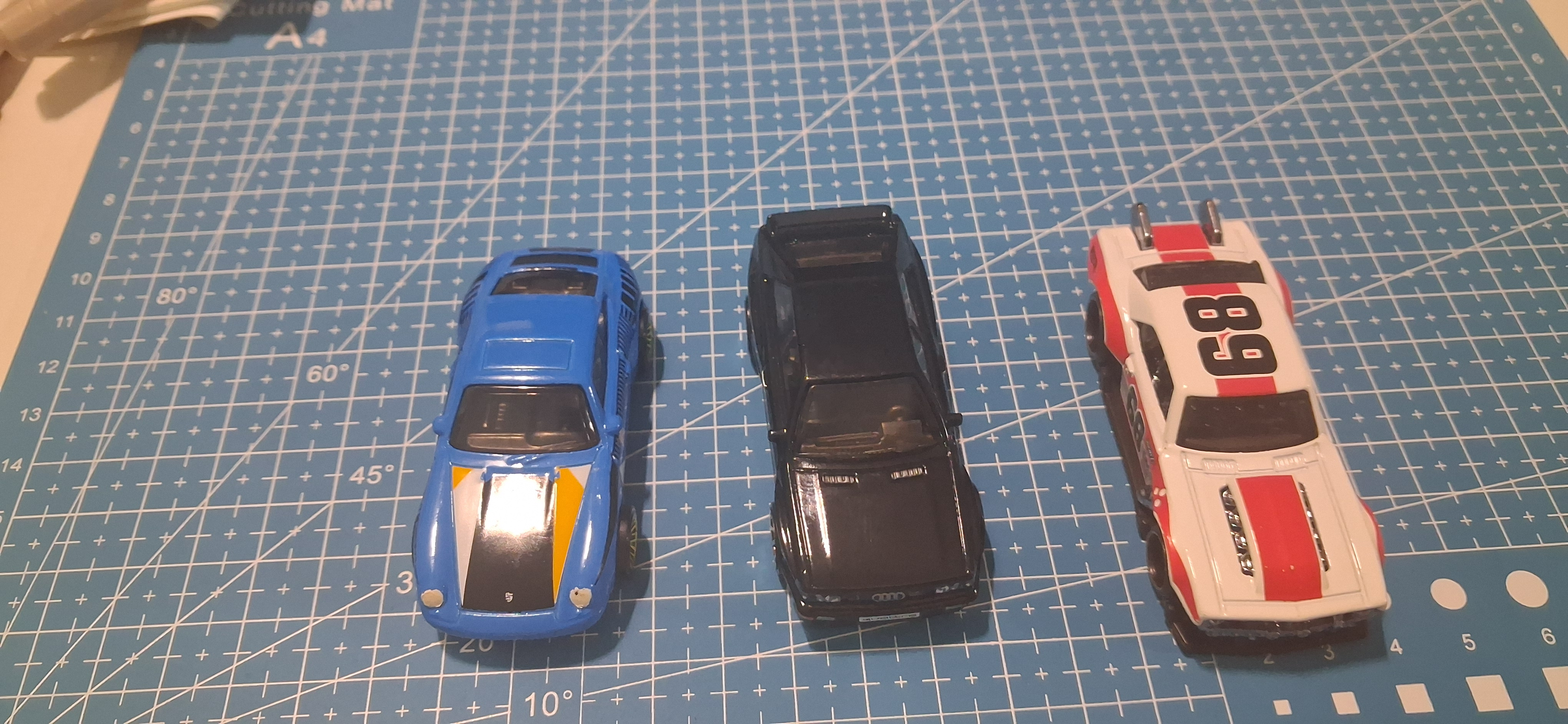Audi_Quattro: (717, 193, 1044, 644)
Camaro: (1065, 184, 1432, 674)
Porsche_Carrera: (406, 207, 690, 667)
